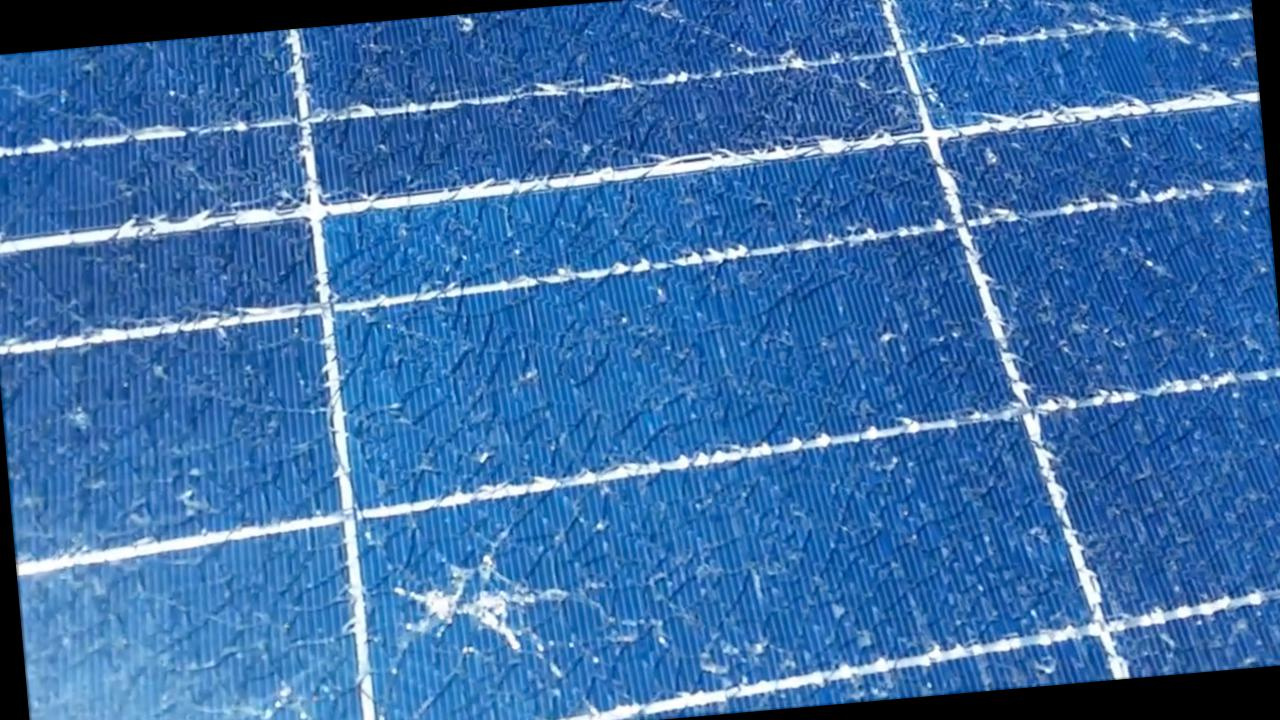Crack: (381, 514, 583, 676)
